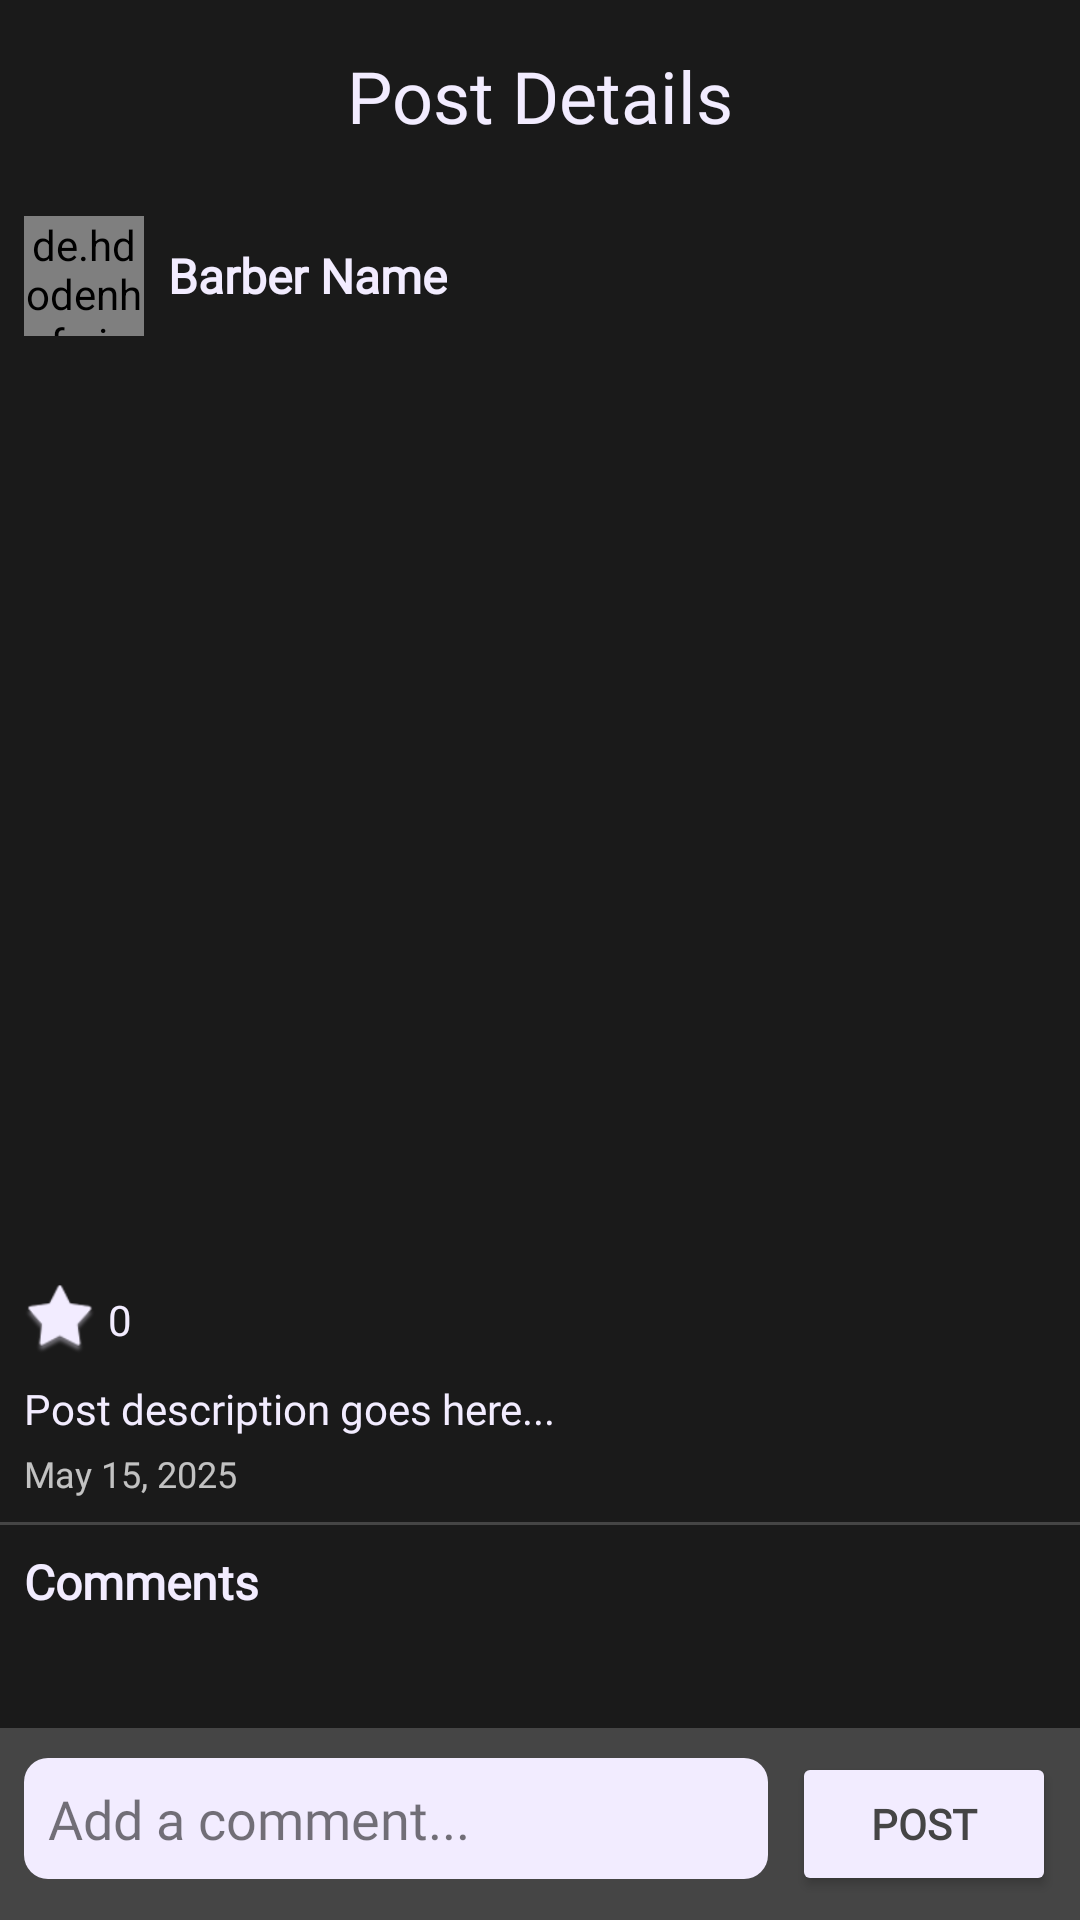

Icon bounding boxes for this 1080w x 1920h phone screenshot, format {"x1": x1, "y1": y1, "x2": x2, "y2": y2}:
star off: {"x1": 28, "y1": 1285, "x2": 92, "y2": 1350}
